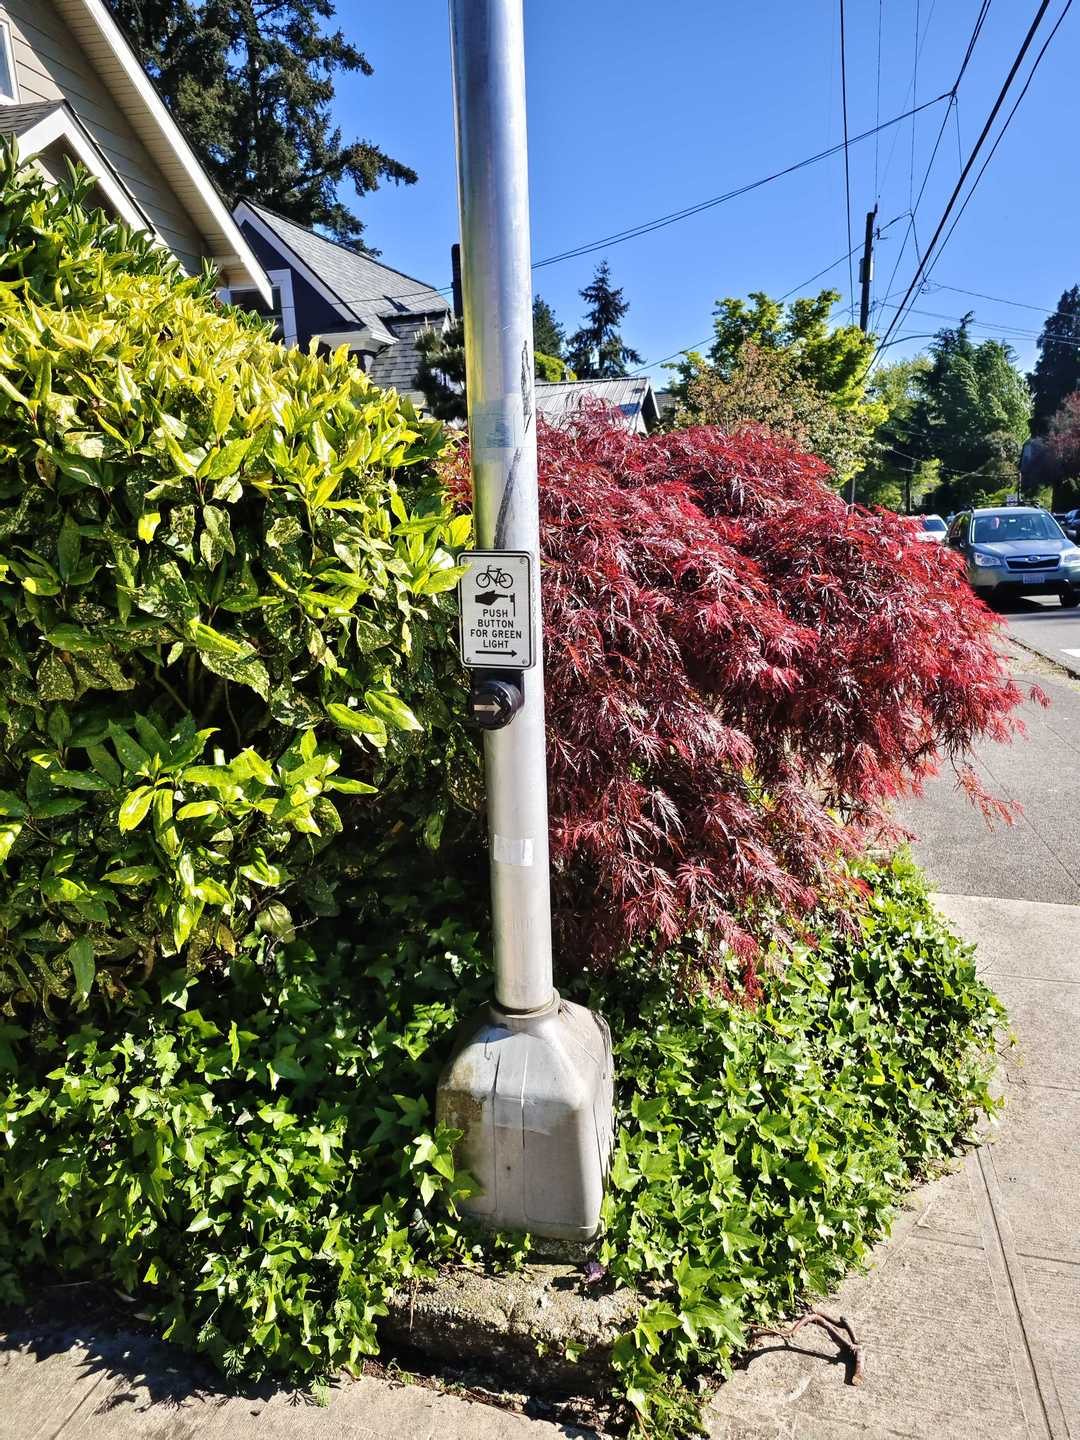ped_button: (458, 550, 530, 732)
